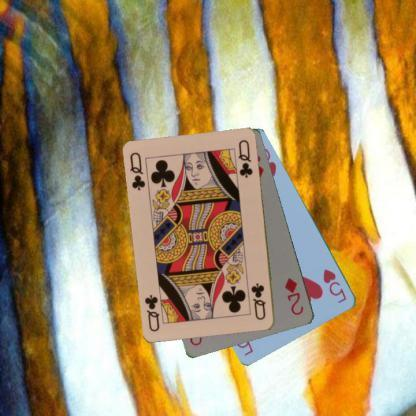2d: (282, 275, 305, 317)
5h: (320, 266, 348, 304)
Qc: (127, 150, 147, 192), (249, 280, 268, 322)
